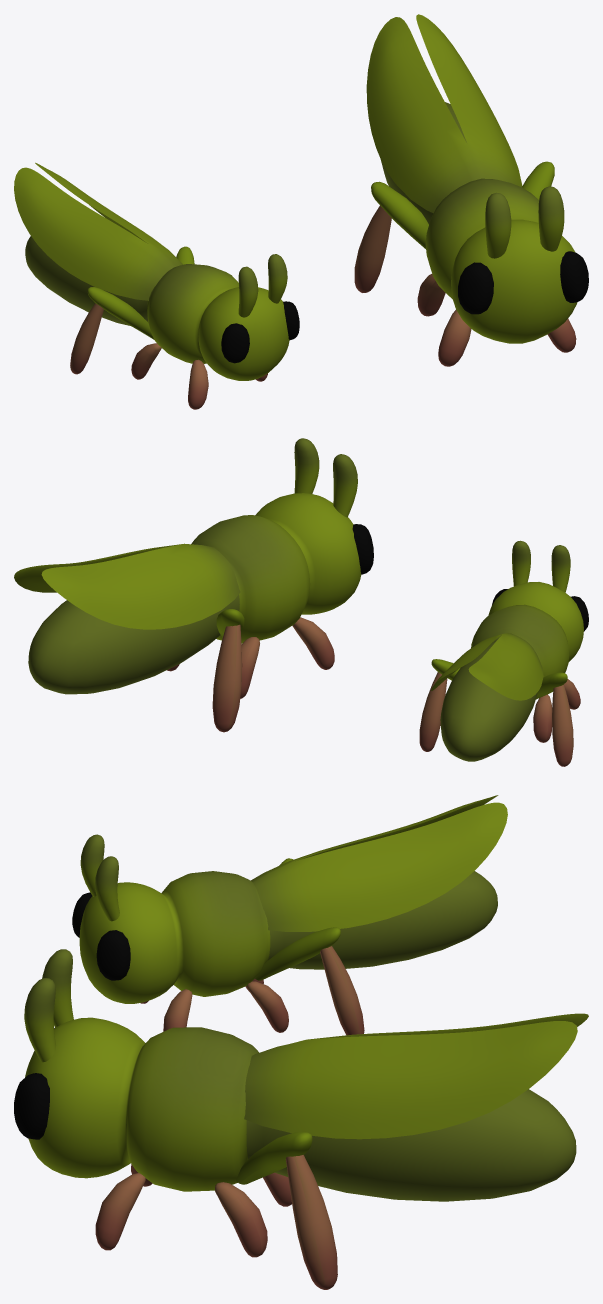
The model's file is Grasshopper.gltf.
The picture shows the model from 3 angles, top to bottom: view 1: azimuth 30°, elevation 25°; view 2: azimuth 150°, elevation 25°; view 3: azimuth 270°, elevation 25°; orthographic projection. The views are drawn at different scales.
Parts seen in each view (by area): view 1: FoM_ARFilter_Grasshopper_001; view 2: FoM_ARFilter_Grasshopper_001; view 3: FoM_ARFilter_Grasshopper_001.
Boxes of the visible parts, x1,y1,x2,y2 form: FoM_ARFilter_Grasshopper_001: (14, 14, 588, 409); FoM_ARFilter_Grasshopper_001: (14, 438, 588, 766); FoM_ARFilter_Grasshopper_001: (14, 795, 588, 1289).
Size of the model in its own units: 1.83 by 0.6861 by 1.45.
Materials: 1 (1 with a texture image).
